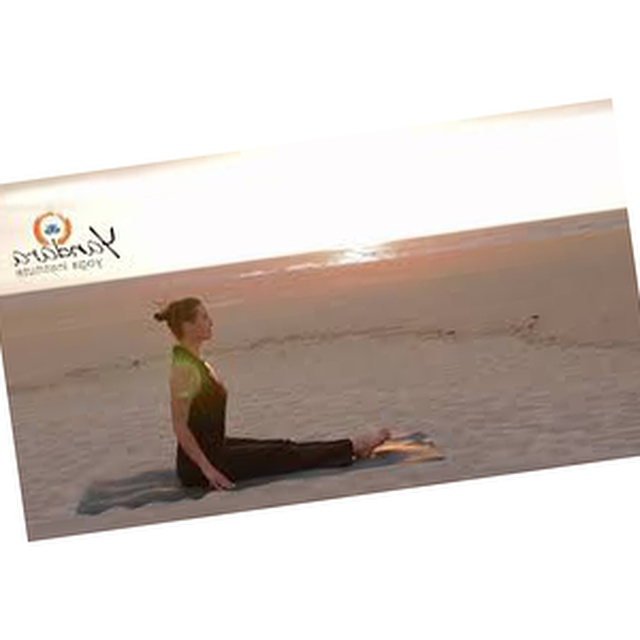Staff_Pose: (154, 296, 392, 492)
